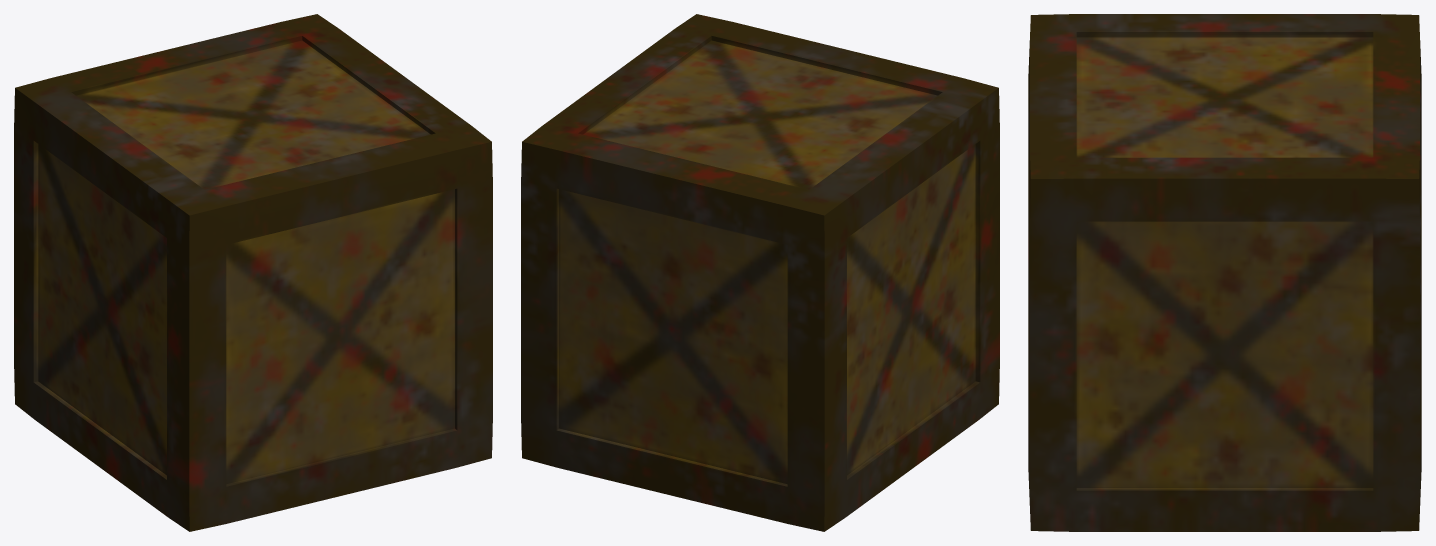
The model's file is Object_Crate_Perfect.fbx.
The picture shows the model from 3 angles, left to right: view 1: azimuth 30°, elevation 25°; view 2: azimuth 150°, elevation 25°; view 3: azimuth 270°, elevation 25°; orthographic projection. The views are drawn at different scales.
Parts seen in each view (by area): view 1: Object_Crate_Perfect; view 2: Object_Crate_Perfect; view 3: Object_Crate_Perfect.
Boxes of the visible parts, left/top/right/bottom form: Object_Crate_Perfect: left=14, top=14, right=492, bottom=531; Object_Crate_Perfect: left=521, top=14, right=999, bottom=531; Object_Crate_Perfect: left=1028, top=14, right=1421, bottom=531.
Bounding box in the file's own units: 1.89 × 1.89 × 1.89.
